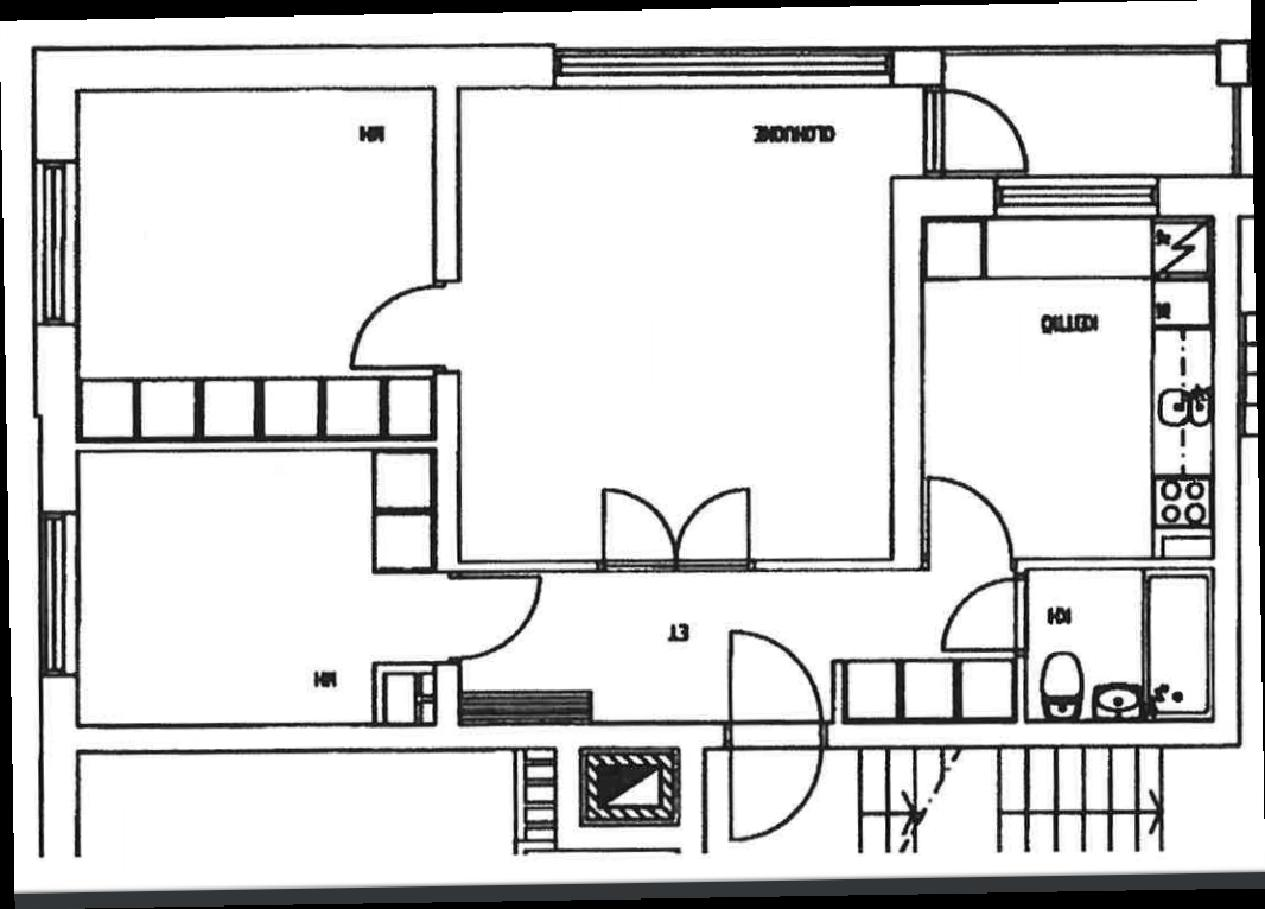door: (455, 223, 1213, 716), (458, 85, 924, 560), (79, 86, 431, 437), (74, 451, 449, 730), (945, 57, 1237, 173), (1031, 572, 1206, 716)
window: (724, 630, 828, 847), (599, 485, 751, 567), (346, 280, 457, 369), (924, 90, 1033, 175), (924, 471, 1015, 564), (449, 574, 540, 655), (938, 576, 1024, 656)
zone: (553, 46, 888, 85), (36, 159, 79, 323), (37, 511, 76, 673), (995, 179, 1157, 213)
